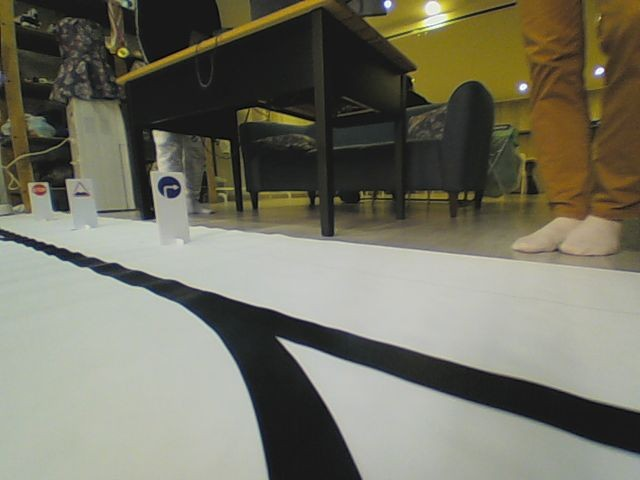Nerov: (71, 181, 90, 197)
Right: (156, 174, 181, 200)
